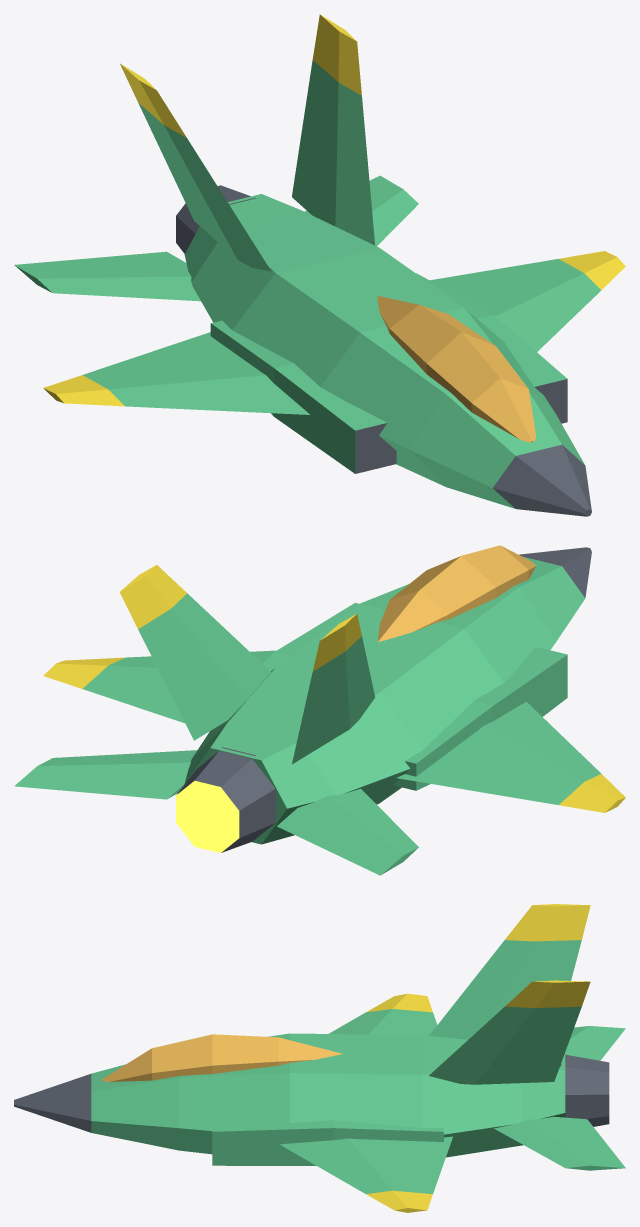
Rendered from jet_f35.glb.
3 views of the same model, one above another, from view 1: azimuth 30°, elevation 25°; view 2: azimuth 150°, elevation 25°; view 3: azimuth 270°, elevation 25° (orthographic). The views are drawn at different scales.
Parts seen in each view (by area): view 1: LowPolyJet_F35; view 2: LowPolyJet_F35; view 3: LowPolyJet_F35.
Part boxes in pixels (x1=…): LowPolyJet_F35: x1=14, y1=14, x2=625, y2=516; LowPolyJet_F35: x1=14, y1=545, x2=625, y2=875; LowPolyJet_F35: x1=14, y1=904, x2=625, y2=1212.
Size of the model in its own units: 4.6 by 2 by 5.55.
